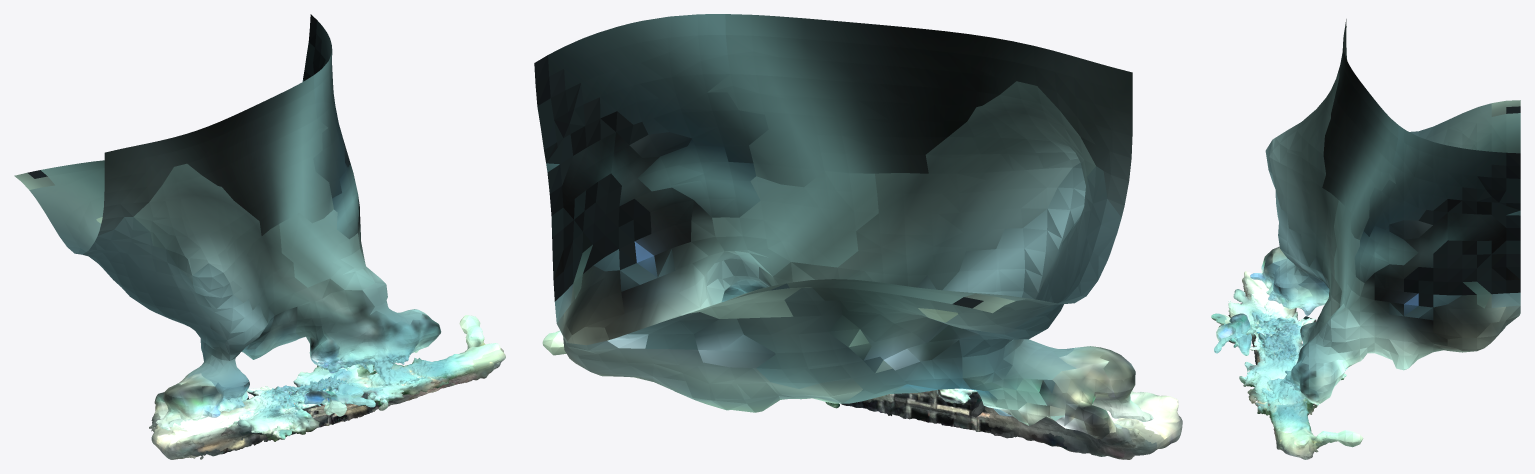
Rendered from lanterns_mesh.glb.
The picture shows the model from 3 angles, left to right: view 1: azimuth 30°, elevation 25°; view 2: azimuth 150°, elevation 25°; view 3: azimuth 270°, elevation 25°; orthographic projection. The views are drawn at different scales.
Parts seen in each view (by area): view 1: world; view 2: world; view 3: world.
Boxes of the visible parts, <box> form: world: <box>14,14,505,459</box>; world: <box>534,14,1182,459</box>; world: <box>1211,19,1520,459</box>.
Bounding box in the file's own units: 168 × 121 × 124.
1 material, 1 textured.
